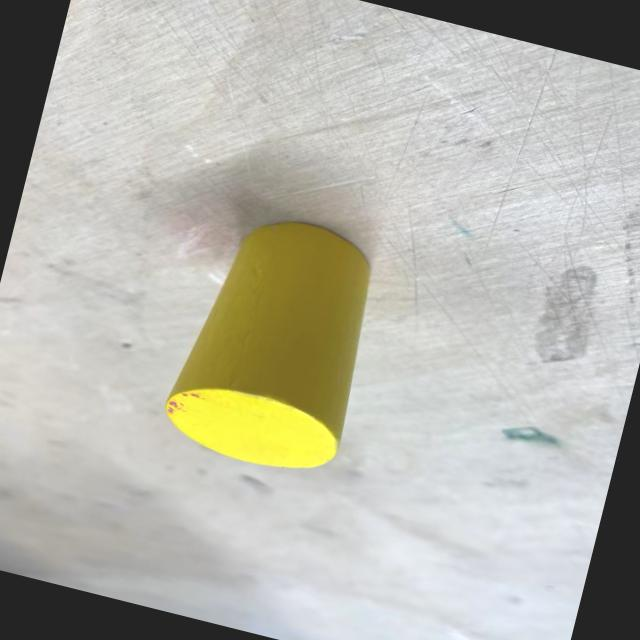yellow_cylinder: (156, 200, 391, 484)
